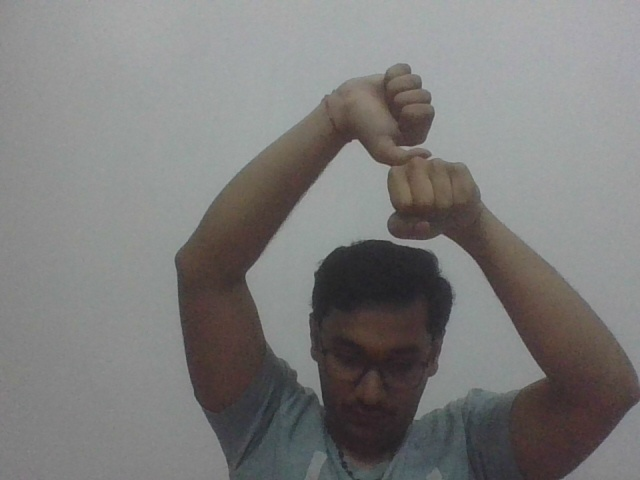S: (347, 58, 483, 244)
